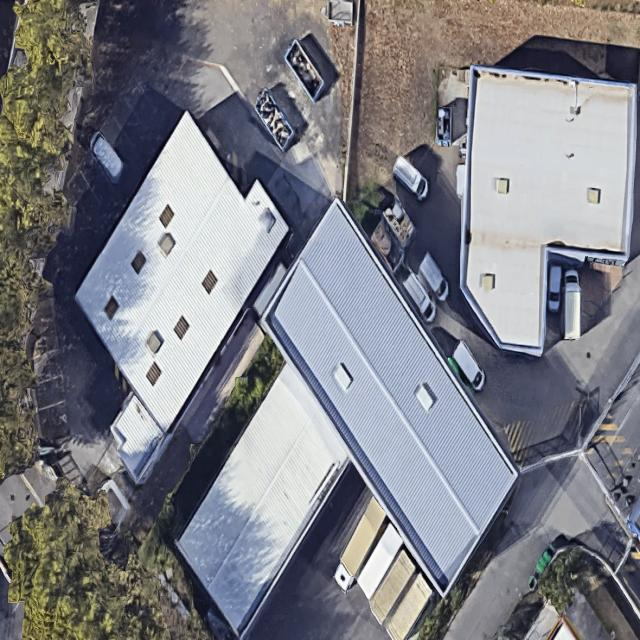immeuble: (227, 195, 553, 598), (32, 112, 314, 443), (150, 364, 374, 638), (451, 65, 640, 361)
